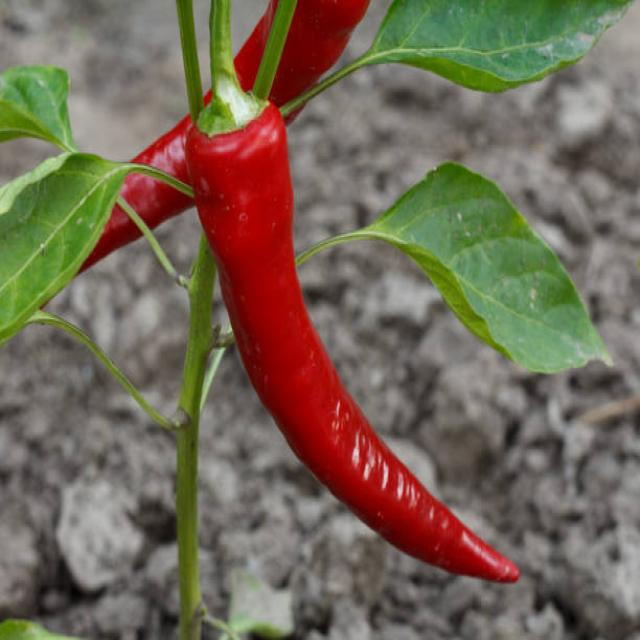Ripe: (186, 103, 517, 580)
